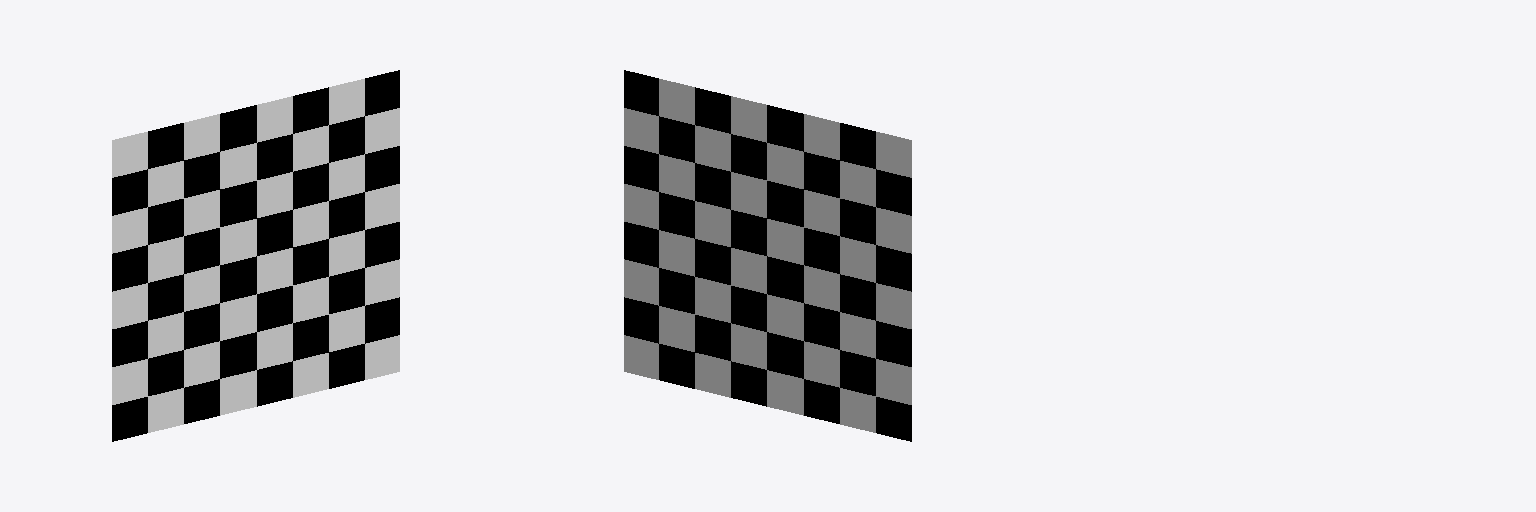
The picture shows the model from 3 angles: view 1: azimuth 30°, elevation 25°; view 2: azimuth 150°, elevation 25°; view 3: azimuth 270°, elevation 25°; orthographic projection.
Bounding box in the file's own units: 2 × 2 × 0.
Materials: 1 (1 with a texture image).